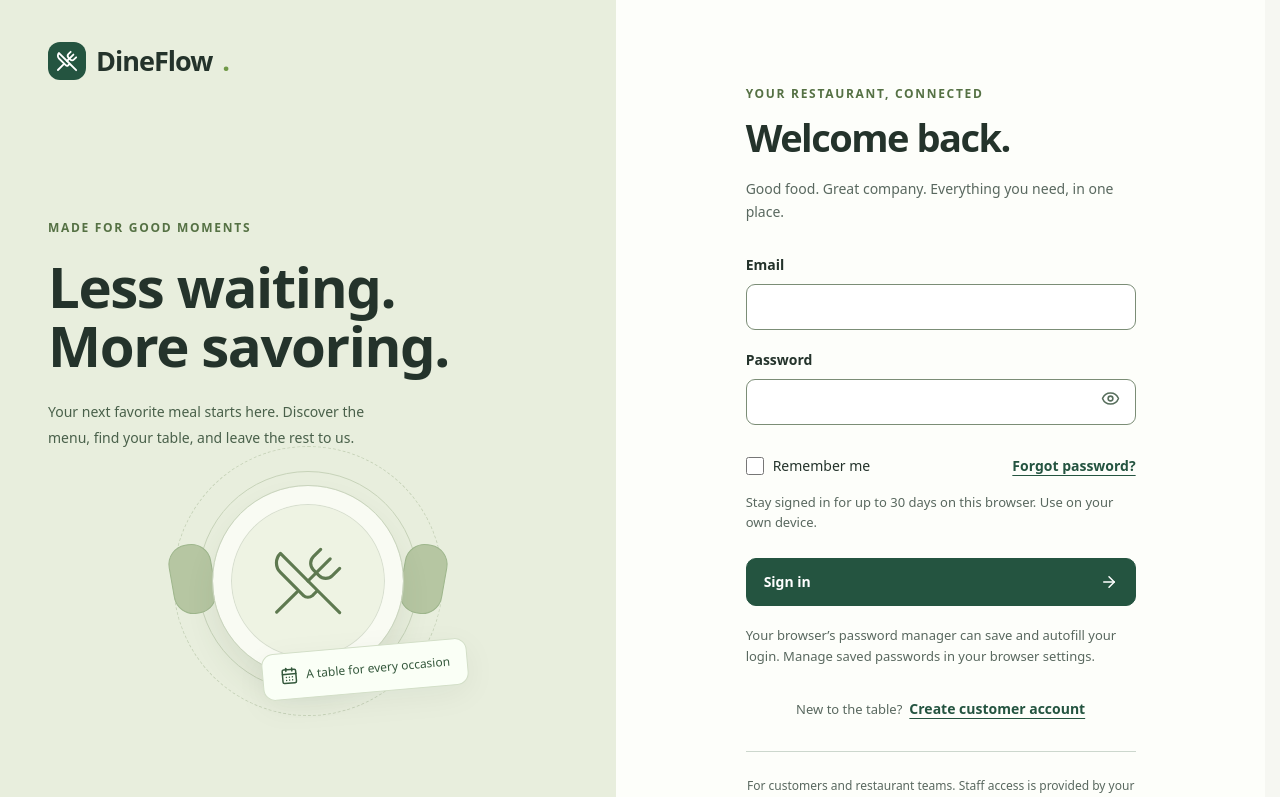
it: never saves failed credentials and supports ordinary autofill without the chooser API
The image size is (1280, 797).
Type "customer@example.test" into the field labelled "Email" at (941, 307), box 746,284 -> 1136,330
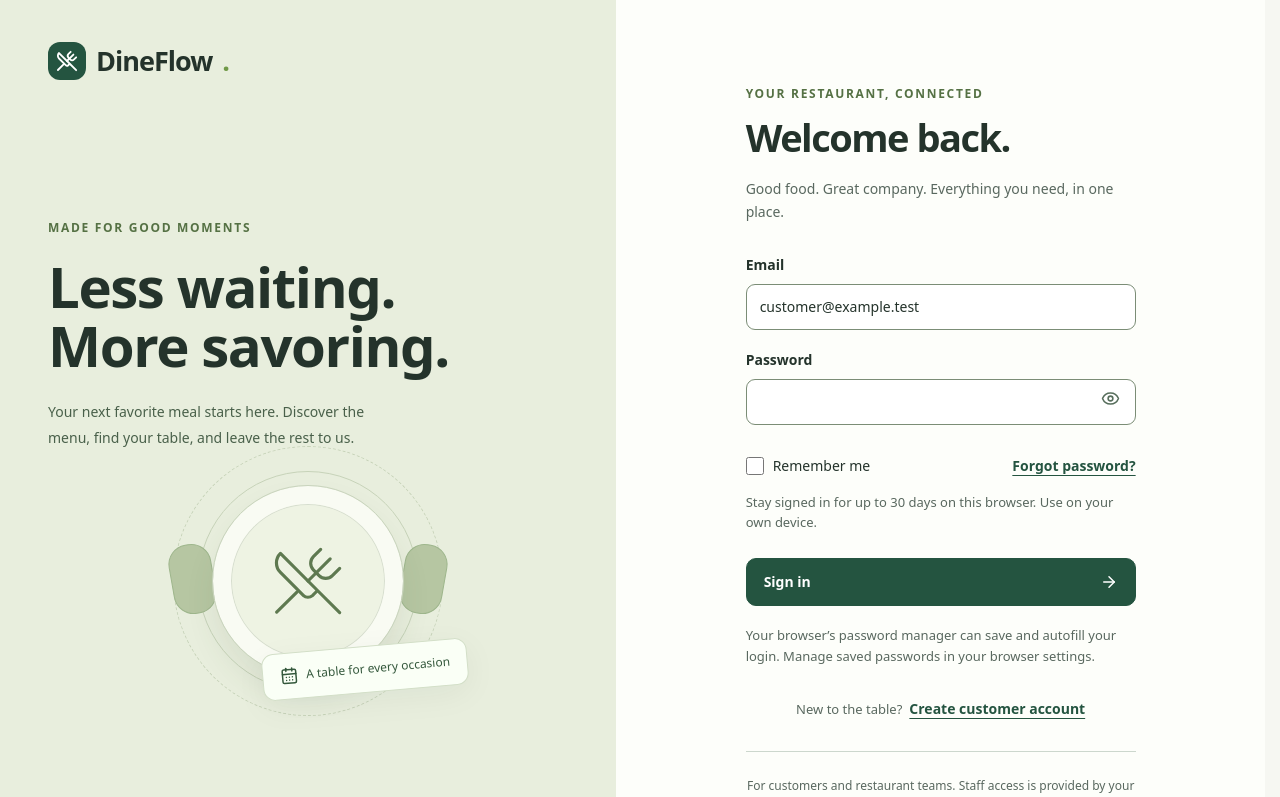
Type "Test-Password-123!" into the password field labelled "Password" at (941, 402), box 746,379 -> 1136,425
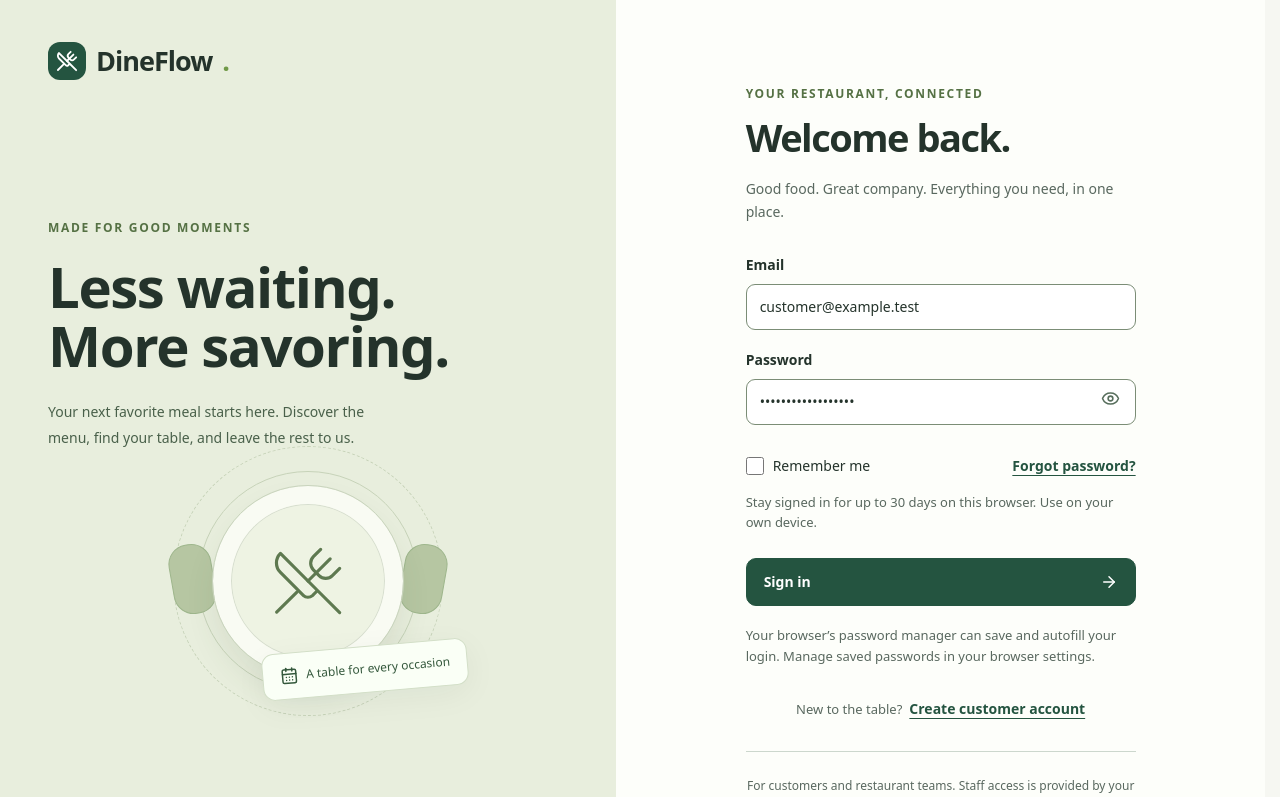
Click the button "Sign in" at (787, 581), box 746,558 -> 1136,606
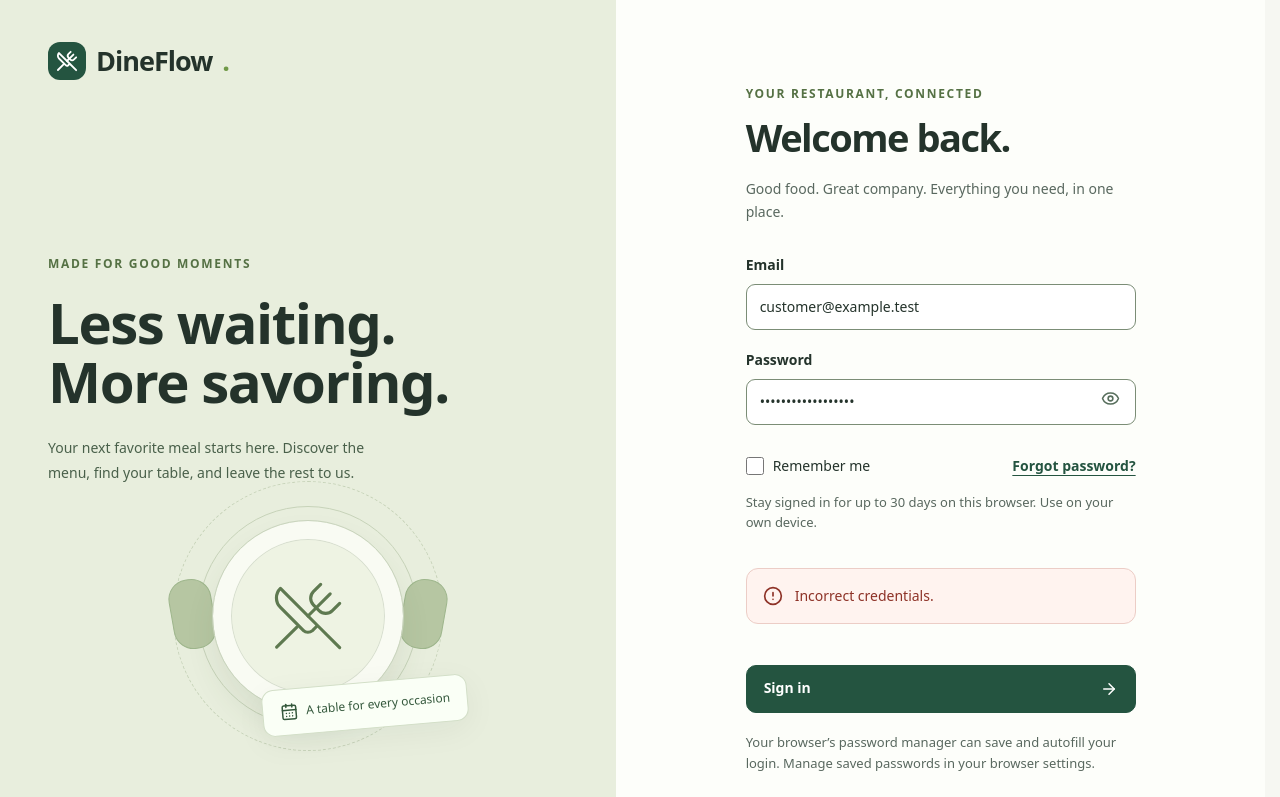
Now the message "Incorrect credentials." is shown, box 746,568 -> 1136,624
